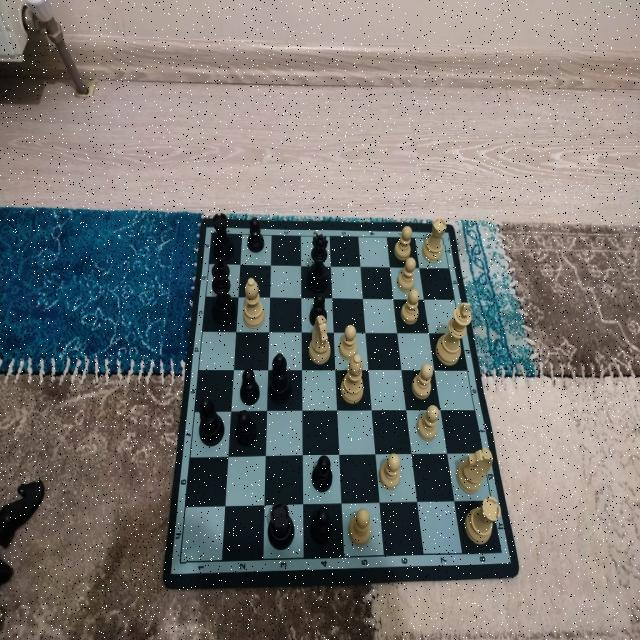corner: (437, 231, 450, 245), (175, 556, 186, 568), (497, 545, 505, 559), (208, 229, 216, 238)
